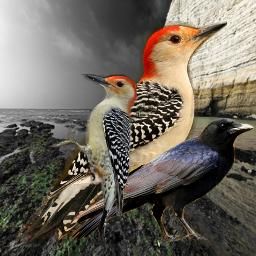Crow: (69, 116, 254, 241)
Woodpecker: (15, 21, 227, 248), (52, 74, 137, 241)
